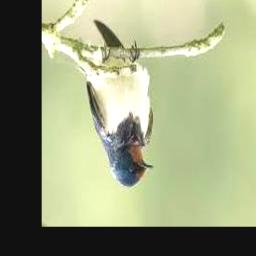Swallow: (87, 20, 155, 187)
